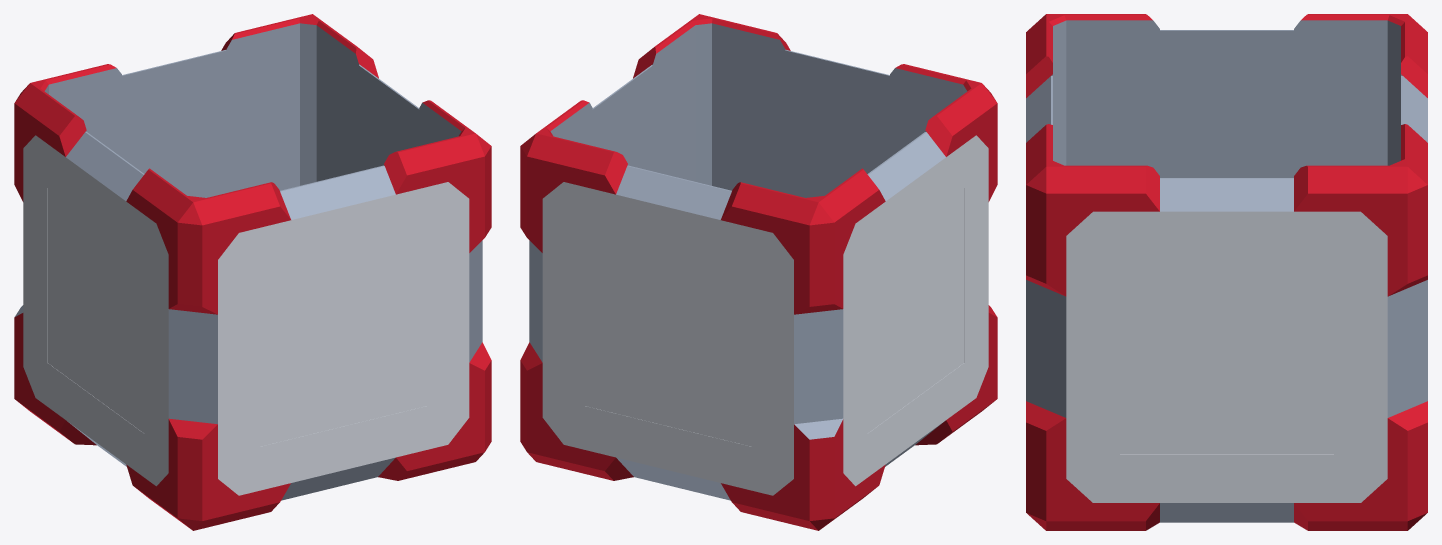
The model's file is container-red.obj.
3 views of the same model, side by side, from view 1: azimuth 30°, elevation 25°; view 2: azimuth 150°, elevation 25°; view 3: azimuth 270°, elevation 25° (orthographic). The views are drawn at different scales.
Parts seen in each view (by area): view 1: seal_985, body_485, acc_1; view 2: seal_985, body_485, acc_1; view 3: seal_985, body_485, acc_1.
Boxes of the visible parts, x1,y1,x2,y2 form: seal_985: (23, 135, 469, 495); body_485: (15, 23, 482, 500); acc_1: (14, 14, 491, 530); seal_985: (542, 135, 988, 495); body_485: (529, 23, 967, 500); acc_1: (520, 14, 997, 530); seal_985: (1066, 211, 1387, 502); body_485: (1026, 20, 1427, 522); acc_1: (1026, 14, 1427, 530).
Bounding box in the file's own units: 0.12 × 0.12 × 0.12.
